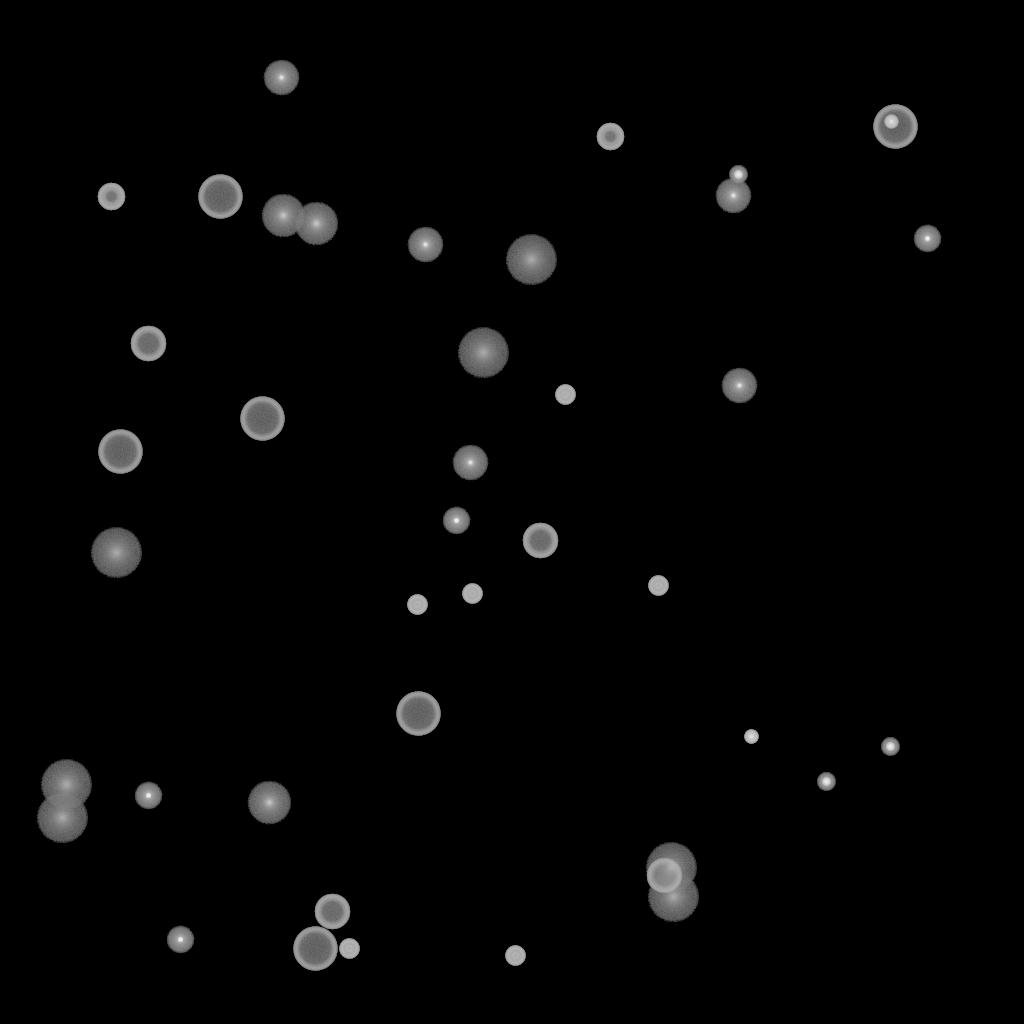depth:-10: (166, 926, 194, 954), (913, 225, 941, 253), (442, 507, 470, 535), (134, 782, 162, 810)
depth:-20: (881, 738, 899, 756), (817, 773, 835, 791), (729, 166, 747, 184)
depth:-30: (884, 115, 898, 129), (744, 730, 758, 744)
depth:-40: (407, 595, 427, 615), (462, 584, 482, 604), (555, 385, 575, 405), (505, 946, 525, 966), (648, 576, 668, 596), (339, 939, 359, 959)
depth:-50: (596, 123, 624, 151), (97, 183, 125, 211)
depth:-60: (314, 894, 350, 930), (522, 523, 558, 559), (646, 858, 682, 894), (130, 326, 166, 362)
depth:-70: (98, 430, 142, 474), (240, 397, 284, 441), (396, 692, 440, 736), (198, 175, 242, 219), (293, 927, 337, 971), (873, 105, 917, 149)
depth:0: (263, 60, 299, 96), (407, 227, 443, 263), (721, 368, 757, 404), (715, 178, 751, 214), (452, 445, 488, 481)
depth:10: (247, 781, 291, 825), (294, 202, 338, 246), (261, 194, 305, 238)
depth:20: (90, 528, 142, 578), (505, 235, 557, 285), (36, 793, 88, 843), (40, 760, 92, 810), (457, 328, 509, 378), (647, 872, 699, 922), (645, 843, 697, 893)
